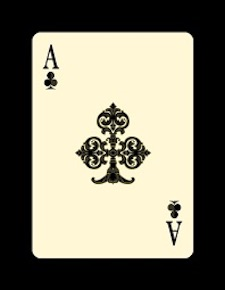AceOfClubs: (27, 25, 197, 263)
